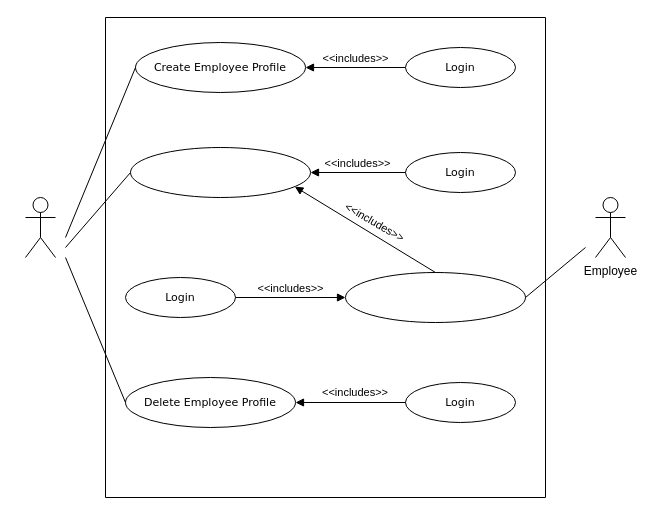
Some shapes in this 654 by 515 pixel diagram are drawn without their labels. The box of each missing label's shape, as (x1, y1, x2, y2) in pixels:
Generate Weekly Schedule with AI: (130, 146, 310, 198)
Manager: (24, 196, 56, 258)
Submit Preferences / Availability: (344, 272, 526, 322)
